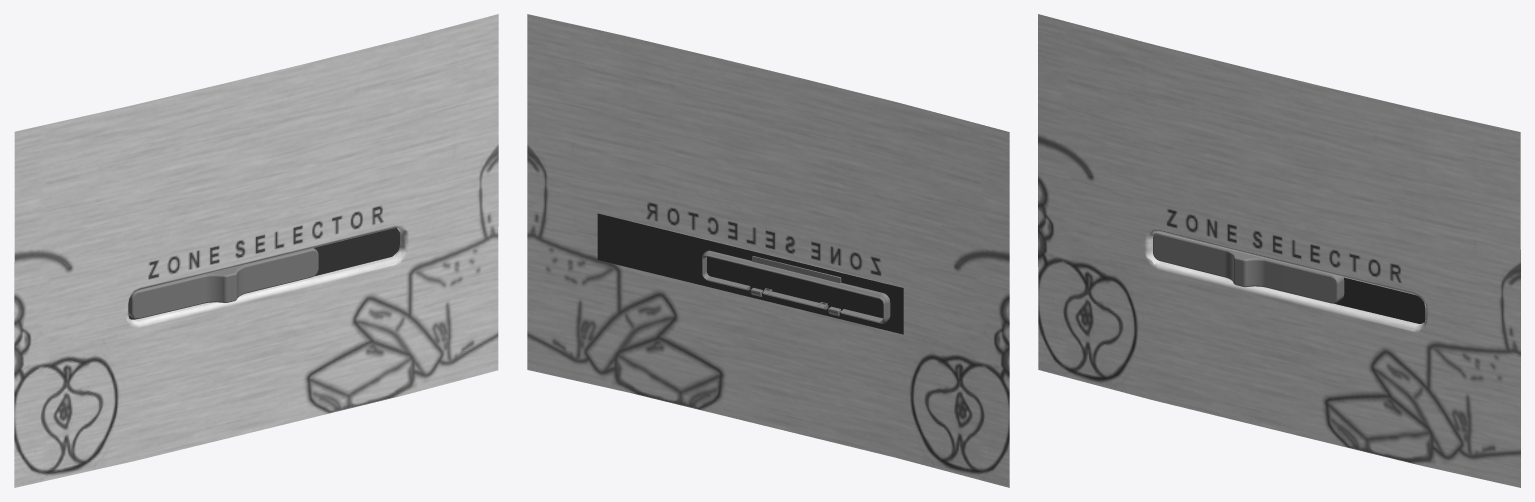
File: switch_plate_part.fbx
3 views of the same model, side by side, from view 1: azimuth 30°, elevation 25°; view 2: azimuth 150°, elevation 25°; view 3: azimuth 330°, elevation 25° (orthographic).
Visible parts, largest first — view 1: inner_part_001, mode_switch; view 2: inner_part_001, mode_switch; view 3: inner_part_001, mode_switch.
Part boxes in pixels (x1,y1,x2,y2): inner_part_001: (14, 14, 498, 487); mode_switch: (128, 248, 318, 319); inner_part_001: (527, 14, 1009, 487); mode_switch: (702, 250, 890, 323); inner_part_001: (1038, 14, 1520, 487); mode_switch: (1153, 232, 1344, 303).
Size of the model in its own units: 20.74 by 14.6 by 1.18.
2 materials, 1 textured.
